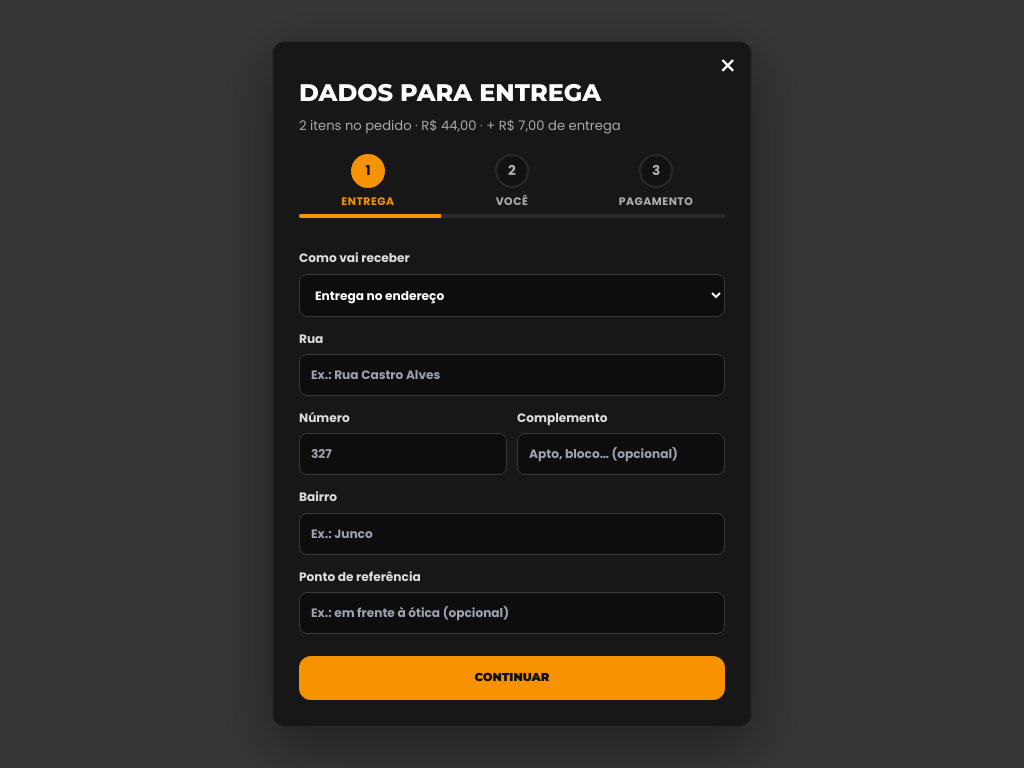
Tela: Modal de pedido › retirada esconde campos de endereço
Select "Retirada no local" in the dropdown labelled "Como vai receber" at (512, 295), box [299,274,725,316]
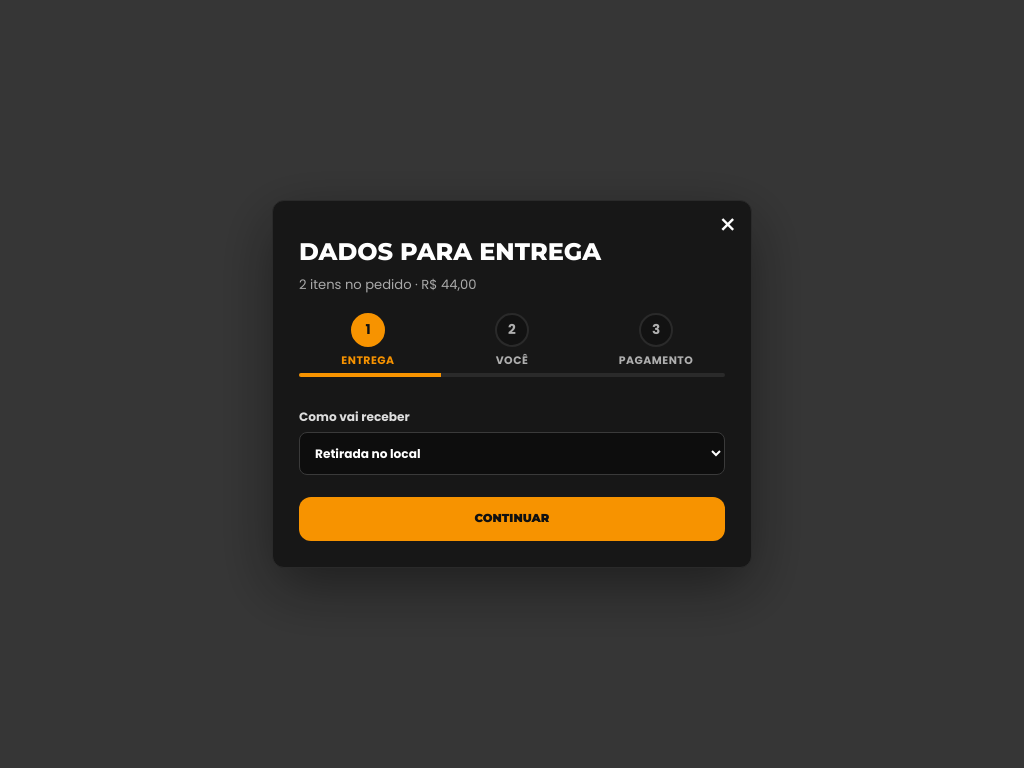
Expected: the label labelled "Rua" is gone
